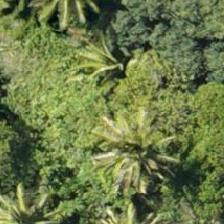coconut_tree: (85, 104, 175, 194)
